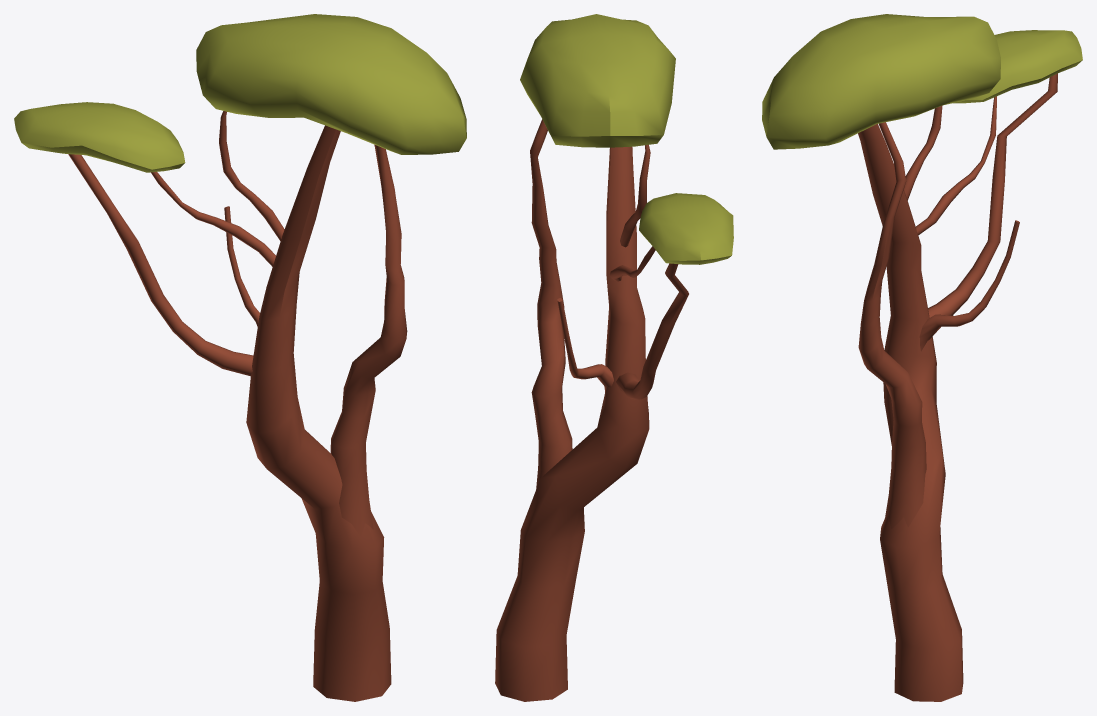
Rendered from Arbre1.fbx.
3 views of the same model, side by side, from view 1: azimuth 30°, elevation 25°; view 2: azimuth 150°, elevation 25°; view 3: azimuth 270°, elevation 25° (orthographic). The views are drawn at different scales.
Parts seen in each view (by area): view 1: Cylinder.079, Cylinder.096, Cylinder.093, Cylinder.094, Cylinder.095, Cylinder.091, Cylinder.097, Cylinder.092; view 2: Cylinder.079, Cylinder.096, Cylinder.093, Cylinder.094, Cylinder.095, Cylinder.092, Cylinder.097, Cylinder.091; view 3: Cylinder.096, Cylinder.079, Cylinder.093, Cylinder.094, Cylinder.095, Cylinder.092, Cylinder.091, Cylinder.097.
Boxes of the visible parts, bbox=[...] form: Cylinder.079: bbox=[246, 125, 391, 701]; Cylinder.096: bbox=[196, 14, 466, 154]; Cylinder.093: bbox=[330, 144, 407, 535]; Cylinder.094: bbox=[14, 102, 185, 172]; Cylinder.095: bbox=[68, 154, 253, 376]; Cylinder.091: bbox=[151, 172, 275, 266]; Cylinder.097: bbox=[219, 111, 284, 241]; Cylinder.092: bbox=[224, 206, 259, 326]; Cylinder.079: bbox=[495, 146, 649, 701]; Cylinder.096: bbox=[520, 14, 675, 147]; Cylinder.093: bbox=[530, 119, 572, 488]; Cylinder.094: bbox=[639, 193, 733, 264]; Cylinder.095: bbox=[616, 263, 688, 399]; Cylinder.092: bbox=[557, 298, 613, 392]; Cylinder.097: bbox=[620, 145, 650, 247]; Cylinder.091: bbox=[609, 246, 655, 281]; Cylinder.096: bbox=[762, 14, 1000, 149]; Cylinder.079: bbox=[858, 124, 963, 701]; Cylinder.093: bbox=[858, 122, 926, 528]; Cylinder.094: bbox=[953, 30, 1082, 103]; Cylinder.095: bbox=[928, 73, 1057, 317]; Cylinder.092: bbox=[919, 220, 1019, 351]; Cylinder.091: bbox=[916, 96, 996, 235]; Cylinder.097: bbox=[903, 105, 942, 200].
Bounding box in the file's own units: 360 × 726 × 332.
